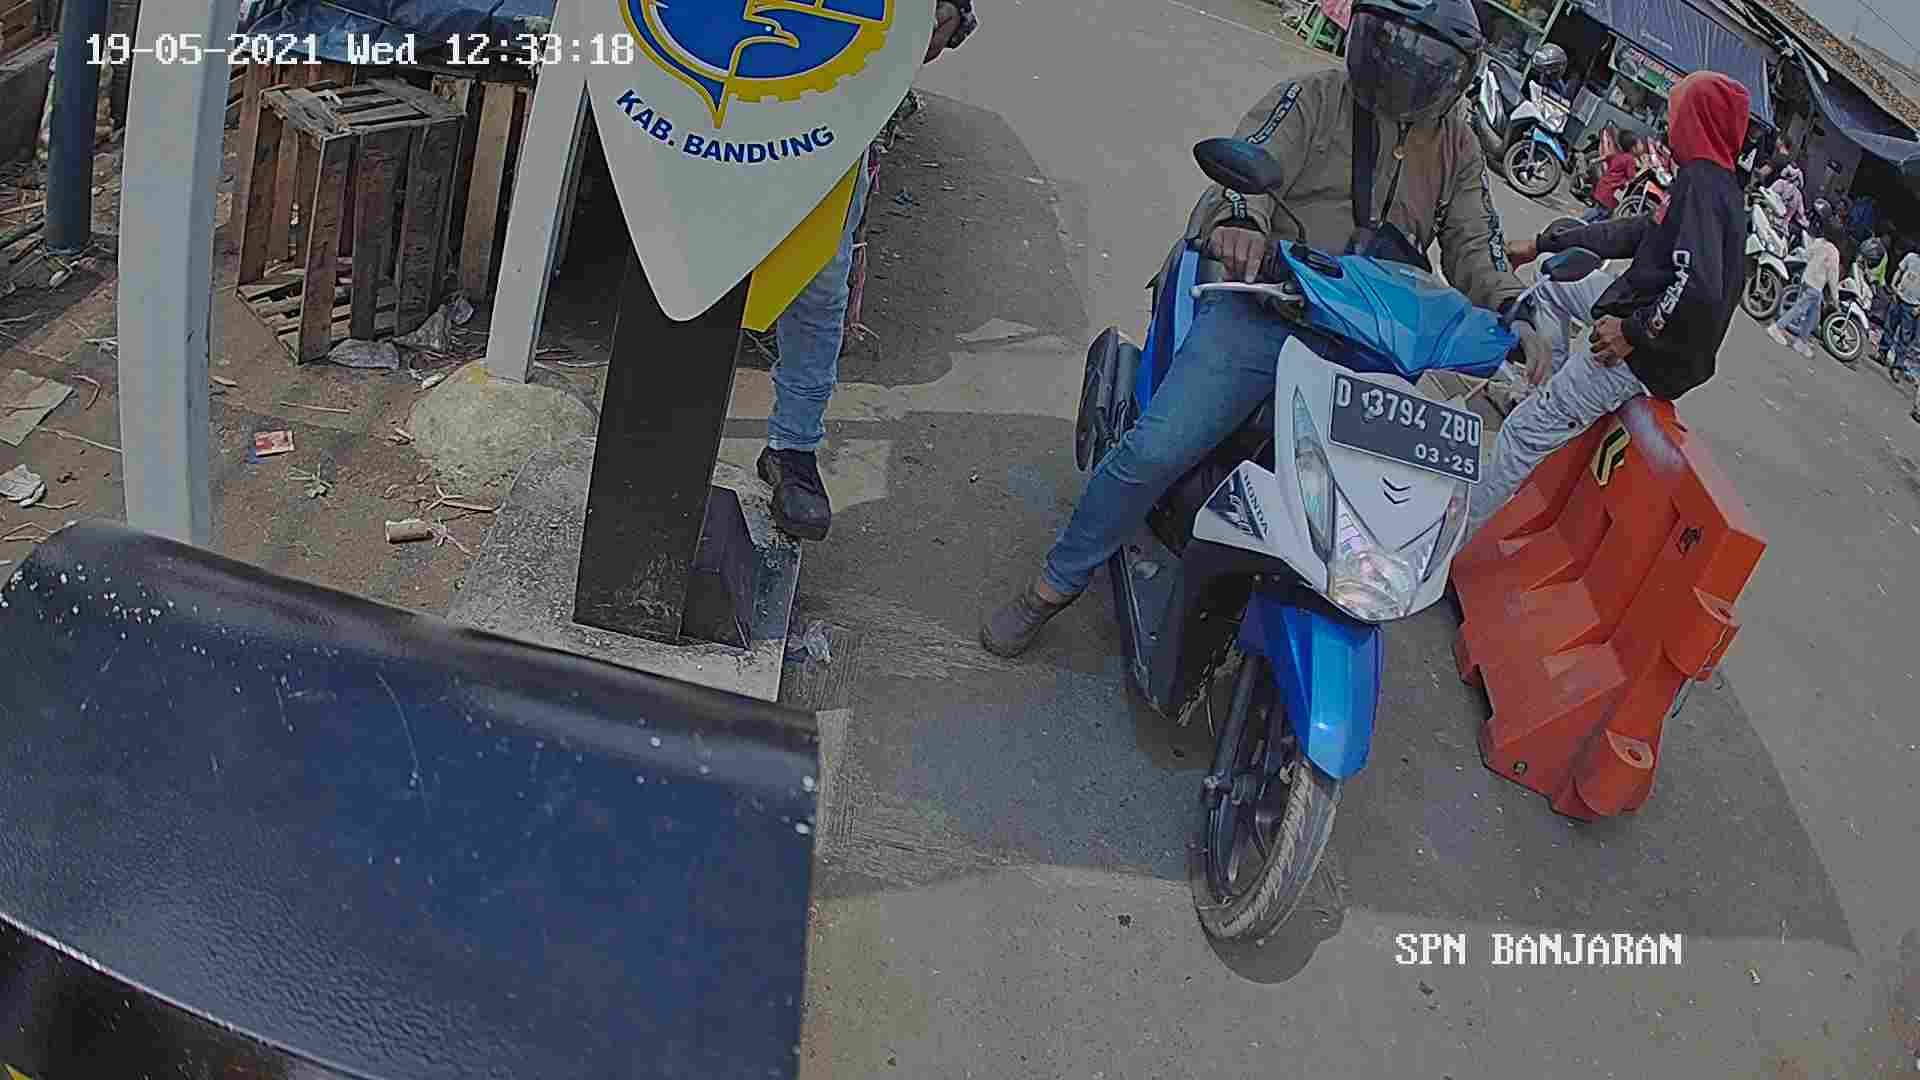motor: (1087, 237, 1478, 985)
